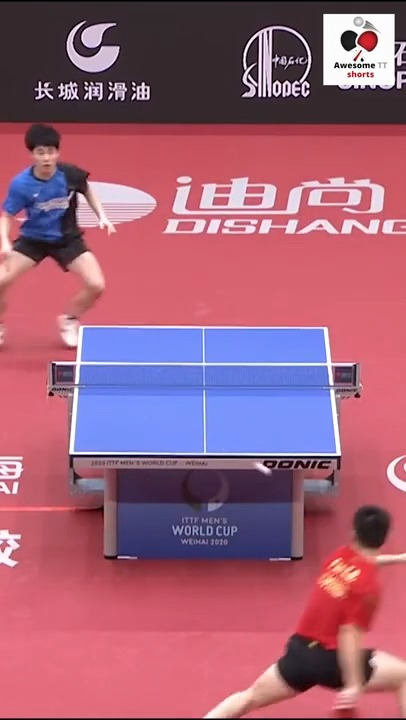Ball: (254, 460, 271, 476)
